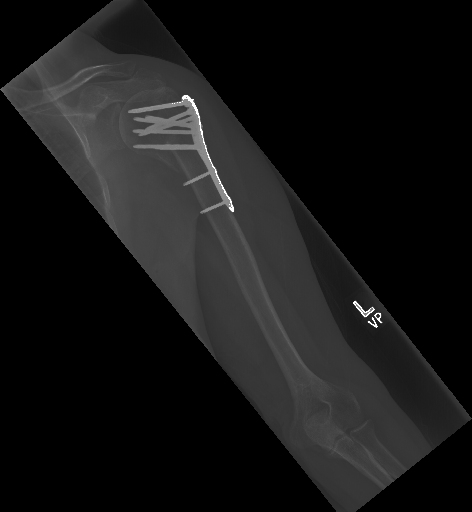implant: (128, 91, 236, 216)
